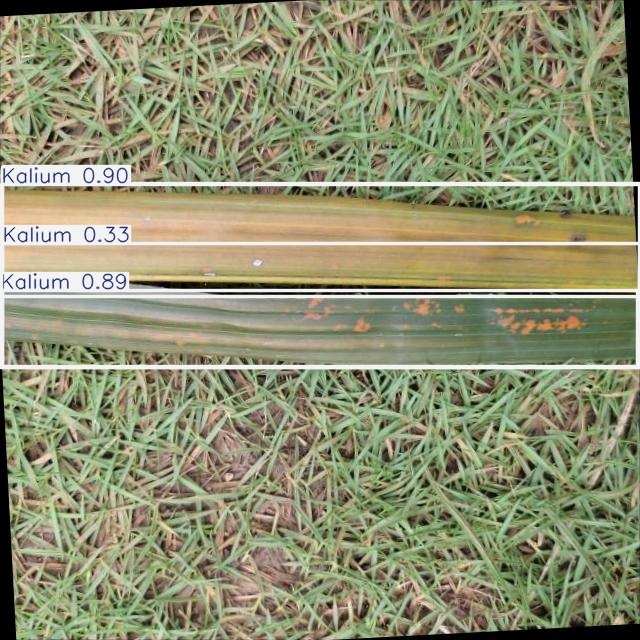Kalium: (3, 184, 640, 367), (3, 244, 639, 366), (2, 184, 640, 296), (0, 290, 638, 368)
